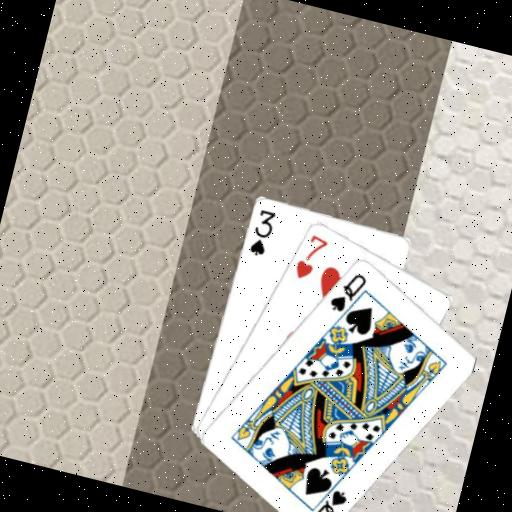3S: (245, 204, 278, 259)
7H: (290, 228, 331, 285)
QS: (325, 264, 370, 318), (306, 481, 351, 512)
